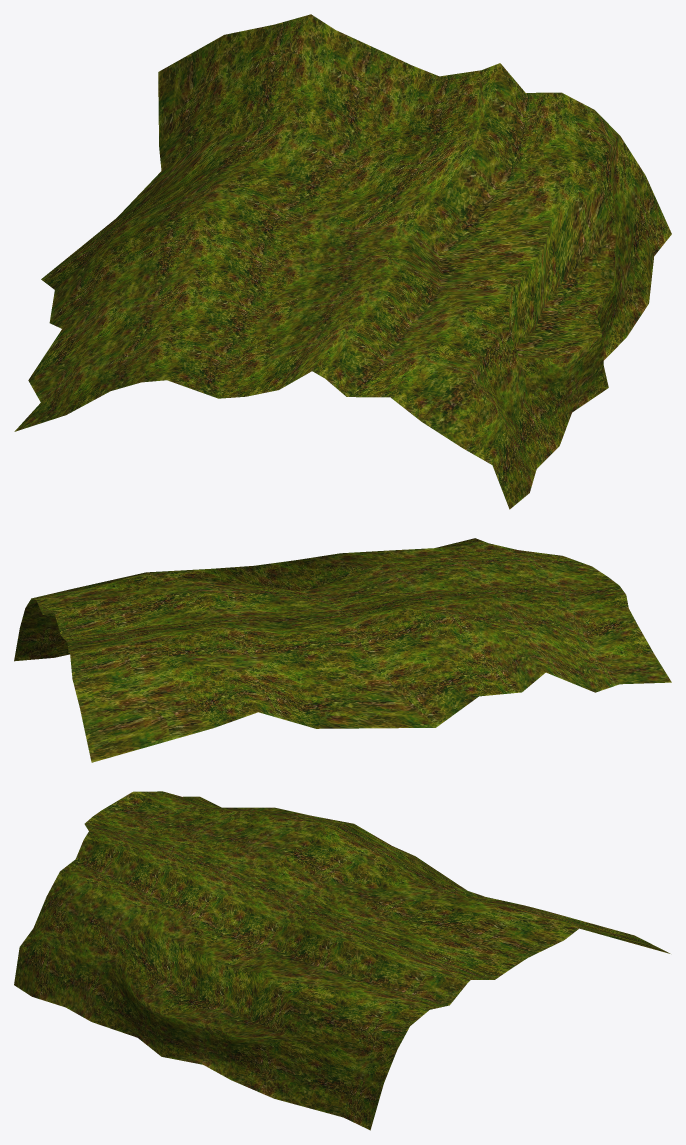
Rendered from TROLLHOLE02_ZOBJECT02.fbx.
The picture shows the model from 3 angles, top to bottom: view 1: azimuth 30°, elevation 25°; view 2: azimuth 150°, elevation 25°; view 3: azimuth 270°, elevation 25°; orthographic projection. The views are drawn at different scales.
Visible parts, largest first — view 1: TROLLHOLE02_ZOBJECT02; view 2: TROLLHOLE02_ZOBJECT02; view 3: TROLLHOLE02_ZOBJECT02.
Part boxes in pixels (<box>): TROLLHOLE02_ZOBJECT02: <box>14,14,671,509</box>; TROLLHOLE02_ZOBJECT02: <box>14,538,671,762</box>; TROLLHOLE02_ZOBJECT02: <box>14,791,670,1130</box>.
Bounding box in the file's own units: 429571 × 90549 × 429230.
1 material, 1 textured.
